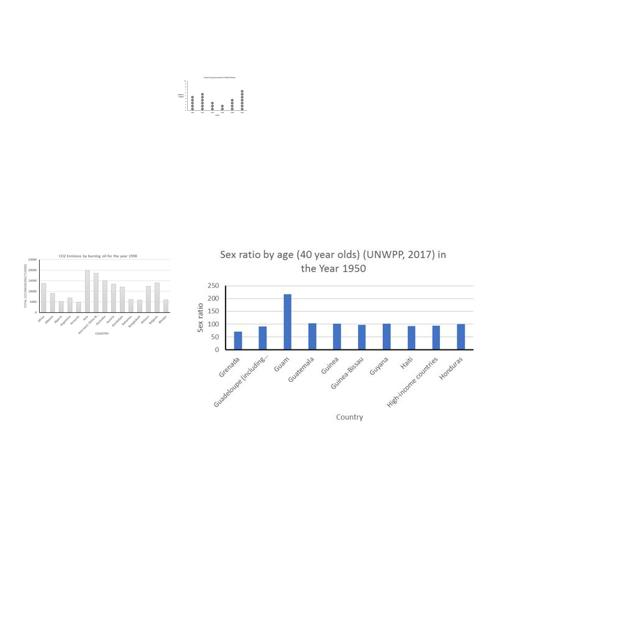Graph: (189, 243, 476, 429), (23, 253, 172, 336), (175, 75, 249, 118)
